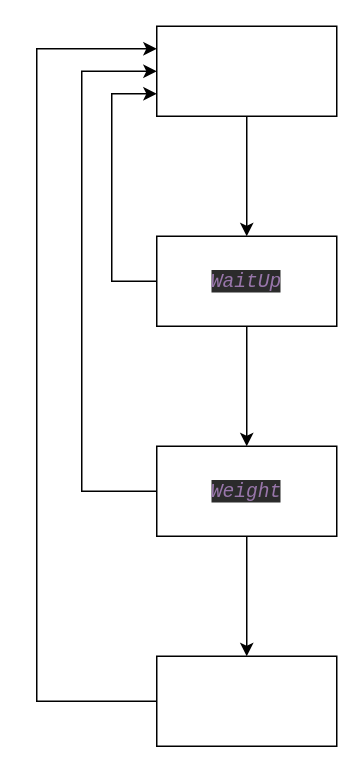
The diagram is 363 pixels wide and 773 high, and some of its shapes have lost their labels. The centre of each missing label's shape, as x and y in pixels:
Ready: pixel 246 70
WaitDown: pixel 246 700
